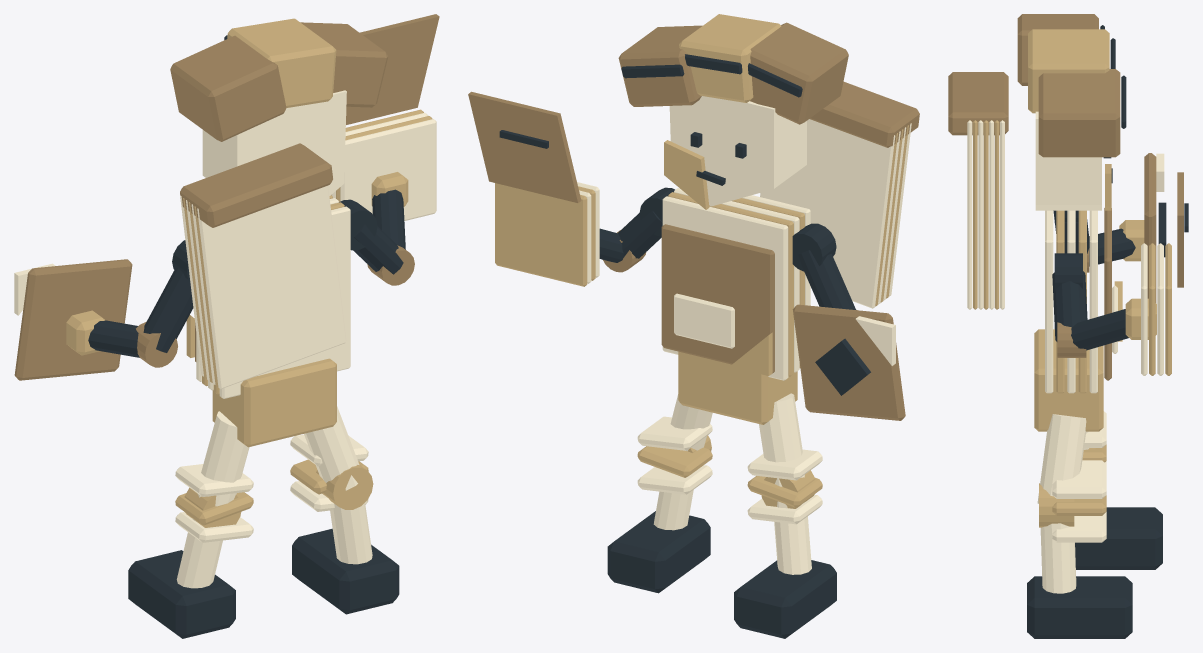
3 renders of one model, left to right at view 1: azimuth 30°, elevation 25°; view 2: azimuth 150°, elevation 25°; view 3: azimuth 270°, elevation 25°, orthographic. The views are drawn at different scales.
Parts seen in each view (by area): view 1: backpack_note_6, sticky_trap, note_hair_0, folded_note_waist, backpack_binding, note_face, wrist_pad_sheet_0, L_shoe, R_shoe, note_hair_1, lifted_sticky_note, note_hair_2 (+22 smaller); view 2: backpack_note_0, sticky_apron, note_face, sticky_trap, wrist_pad_sheet_3, lifted_sticky_note, note_hair_0, L_shoe, R_shoe, body_sheet_4, folded_note_waist, note_hair_1 (+28 smaller); view 3: note_hair_2, R_shoe, L_shoe, note_hair_1, note_face, folded_note_waist, backpack_binding, R_thigh, R_shin, note_hair_0, body_sheet_0, R_forearm (+31 smaller).
Boxes of the visible parts, x1=… form: backpack_note_6: x1=197, y1=185, x2=346, y2=388; sticky_trap: x1=14, y1=259, x2=132, y2=380; note_hair_0: x1=170, y1=35, x2=286, y2=141; folded_note_waist: x1=212, y1=358, x2=336, y2=447; backpack_binding: x1=180, y1=143, x2=332, y2=227; note_face: x1=202, y1=90, x2=346, y2=196; wrist_pad_sheet_0: x1=340, y1=119, x2=436, y2=220; L_shoe: x1=128, y1=550, x2=235, y2=638; R_shoe: x1=292, y1=528, x2=399, y2=614; note_hair_1: x1=227, y1=18, x2=336, y2=107; lifted_sticky_note: x1=346, y1=14, x2=439, y2=124; note_hair_2: x1=300, y1=22, x2=388, y2=107; backpack_note_0: x1=760, y1=119, x2=895, y2=308; sticky_apron: x1=661, y1=224, x2=774, y2=373; note_face: x1=669, y1=96, x2=806, y2=206; sticky_trap: x1=792, y1=304, x2=905, y2=420; wrist_pad_sheet_3: x1=495, y1=183, x2=587, y2=286; lifted_sticky_note: x1=468, y1=91, x2=581, y2=202; note_hair_0: x1=750, y1=22, x2=848, y2=124; L_shoe: x1=734, y1=560, x2=836, y2=638; R_shoe: x1=607, y1=511, x2=710, y2=593; body_sheet_4: x1=662, y1=196, x2=788, y2=380; folded_note_waist: x1=678, y1=351, x2=797, y2=424; note_hair_1: x1=679, y1=14, x2=781, y2=102; note_hair_2: x1=1038, y1=69, x2=1120, y2=157; R_shoe: x1=1027, y1=576, x2=1132, y2=638; L_shoe: x1=1075, y1=507, x2=1162, y2=569; note_hair_1: x1=1028, y1=29, x2=1109, y2=113; note_face: x1=1035, y1=111, x2=1101, y2=210; folded_note_waist: x1=1034, y1=329, x2=1103, y2=431; backpack_binding: x1=948, y1=72, x2=1008, y2=135; R_thigh: x1=1037, y1=414, x2=1086, y2=503; R_shin: x1=1040, y1=523, x2=1076, y2=593; note_hair_0: x1=1017, y1=14, x2=1098, y2=85; body_sheet_0: x1=1045, y1=210, x2=1053, y2=393; R_forearm: x1=1071, y1=309, x2=1128, y2=350.
Size of the model in its own units: 1.6 by 2.02 by 0.7975.
